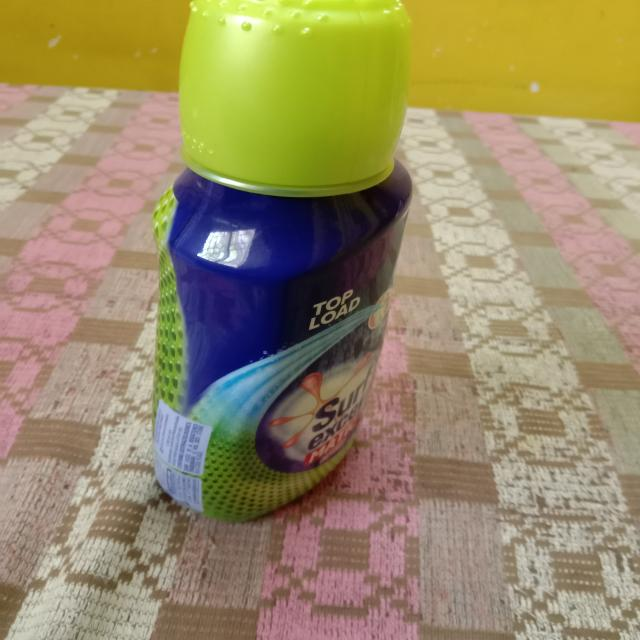detergent: (136, 0, 440, 522)
